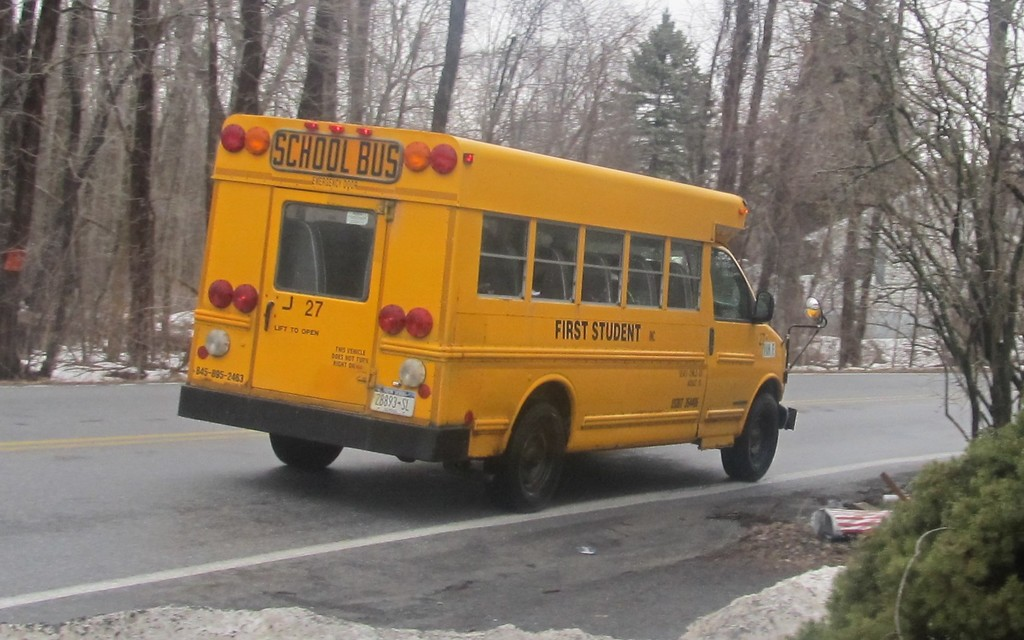Bus: (172, 113, 828, 515)
